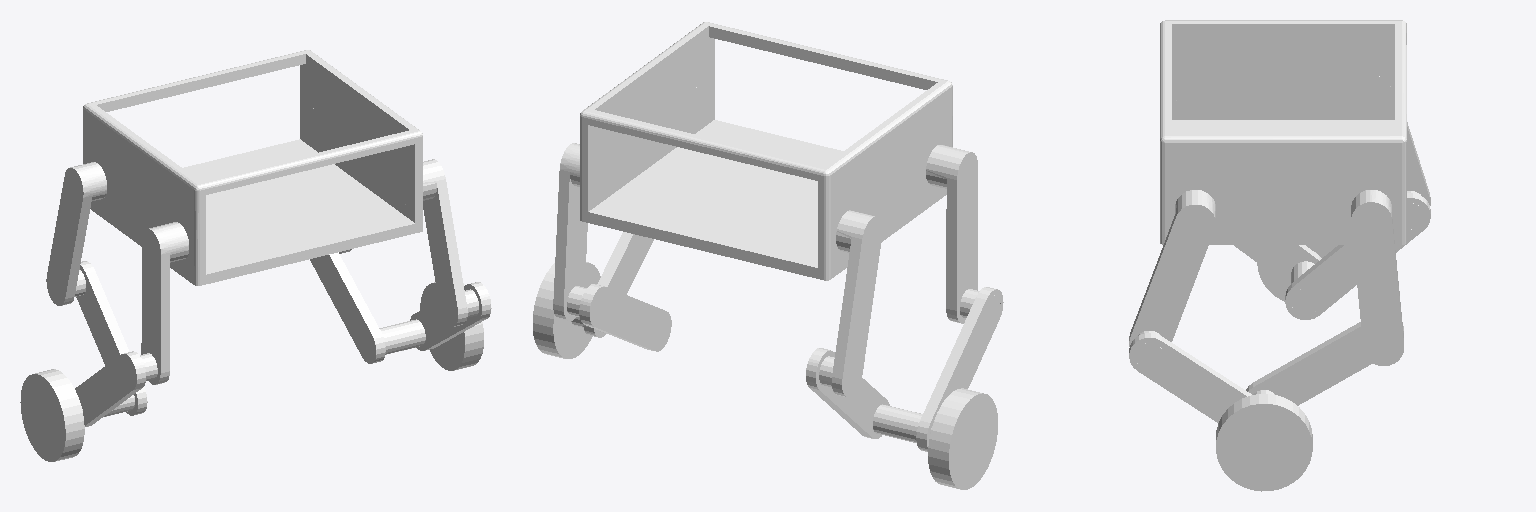
robot.urdf — Legbox:
<?xml version="1.0"?>
<robot name="Legbox">

  <link name="BOX">
    <visual>
      <origin xyz="0 0 0" rpy="0 0 0" />
      <geometry>
        <mesh filename="meshes/BOX.STL" />
      </geometry>
      <material>
        <color rgba="1.00000000 1.00000000 1.00000000 1.00000000"/>
      </material>
    </visual>
    <collision>
      <origin xyz="0 0 0" rpy="0 0 0" />
      <geometry>
        <mesh filename="meshes/BOX.STL" />
      </geometry>
    </collision>
    <inertial>
      <origin xyz="0.0000004 -0.0000004 0.029163" rpy="0 0 0" />
      <mass value="0.88729" />
      <inertia ixx="0.004439" ixy="0" ixz="0" iyy="0.0081058" iyz="0" izz="0.010584" />
    </inertial>
  </link>

  <link name="LL1">
    <visual>
      <origin xyz="0 0 0" rpy="0 0 0" />
      <geometry>
        <mesh filename="meshes/LL1.STL" />
      </geometry>
      <material>
        <color rgba="1.00000000 1.00000000 1.00000000 1.00000000"/>
      </material>
    </visual>
    <collision>
      <origin xyz="0 0 0" rpy="0 0 0" />
      <geometry>
        <mesh filename="meshes/LL1.STL" />
      </geometry>
    </collision>
    <inertial>
      <origin xyz="0.049268 0.0089082 0" rpy="0 0 0" />
      <mass value="0.092756" />
      <inertia ixx="0.0000248" ixy="0.0000436" ixz="0" iyy="0.0002422" iyz="0" izz="0.0002516" />
    </inertial>
  </link>

  <link name="LL3">
    <visual>
      <origin xyz="0 0 0" rpy="0 0 0" />
      <geometry>
        <mesh filename="meshes/LL3.STL" />
      </geometry>
      <material>
        <color rgba="1.00000000 1.00000000 1.00000000 1.00000000"/>
      </material>
    </visual>
    <collision>
      <origin xyz="0 0 0" rpy="0 0 0" />
      <geometry>
        <mesh filename="meshes/LL3.STL" />
      </geometry>
    </collision>
    <inertial>
      <origin xyz="0.06 0.005 0" rpy="0 0 0" />
      <mass value="0.041804" />
      <inertia ixx="0.000005" ixy="0" ixz="0" iyy="0.0000633" iyz="0" izz="0.000059" />
    </inertial>
  </link>

  <link name="WL">
    <visual>
      <origin xyz="0 0 0" rpy="0 0 0" />
      <geometry>
        <mesh filename="meshes/WL.STL" />
      </geometry>
      <material>
        <color rgba="1.00000000 1.00000000 1.00000000 1.00000000"/>
      </material>
    </visual>
    <collision>
      <origin xyz="0 0 0" rpy="0 0 0" />
      <geometry>
        <mesh filename="meshes/WL.STL" />
      </geometry>
    </collision>
    <inertial>
      <origin xyz="0 0.076621 0" rpy="0 0 0" />
      <mass value="0.14676" />
      <inertia ixx="0.0001439" ixy="0" ixz="0" iyy="0.000095" iyz="0" izz="0.0001439" />
    </inertial>
  </link>

  <link name="LL2">
    <visual>
      <origin xyz="0 0 0" rpy="0 0 0" />
      <geometry>
        <mesh filename="meshes/LL2.STL" />
      </geometry>
      <material>
        <color rgba="1.00000000 1.00000000 1.00000000 1.00000000"/>
      </material>
    </visual>
    <collision>
      <origin xyz="0 0 0" rpy="0 0 0" />
      <geometry>
        <mesh filename="meshes/LL2.STL" />
      </geometry>
    </collision>
    <inertial>
      <origin xyz="0.051963 0.012228 0" rpy="0 0 0" />
      <mass value="0.087946" />
      <inertia ixx="0.0000162" ixy="0.0000073" ixz="0" iyy="0.0002291" iyz="0" izz="0.0002306" />
    </inertial>
  </link>

  <link name="LL4">
    <visual>
      <origin xyz="0 0 0" rpy="0 0 0" />
      <geometry>
        <mesh filename="meshes/LL4.STL" />
      </geometry>
      <material>
        <color rgba="1.00000000 1.00000000 1.00000000 1.00000000"/>
      </material>
    </visual>
    <collision>
      <origin xyz="0 0 0" rpy="0 0 0" />
      <geometry>
        <mesh filename="meshes/LL4.STL" />
      </geometry>
    </collision>
    <inertial>
      <origin xyz="0.06 0.005 0" rpy="0 0 0" />
      <mass value="0.041804" />
      <inertia ixx="0.000005" ixy="0" ixz="0" iyy="0.0000633" iyz="0" izz="0.000059" />
    </inertial>
  </link>

  <link name="LR1">
    <visual>
      <origin xyz="0 0 0" rpy="0 0 0" />
      <geometry>
        <mesh filename="meshes/LR1.STL" />
      </geometry>
      <material>
        <color rgba="1.00000000 1.00000000 1.00000000 1.00000000"/>
      </material>
    </visual>
    <collision>
      <origin xyz="0 0 0" rpy="0 0 0" />
      <geometry>
        <mesh filename="meshes/LR1.STL" />
      </geometry>
    </collision>
    <inertial>
      <origin xyz="0.049268 0.0089082 0" rpy="0 0 0" />
      <mass value="0.092756" />
      <inertia ixx="0.0000248" ixy="0.0000436" ixz="0" iyy="0.0002422" iyz="0" izz="0.0002516" />
    </inertial>
  </link>

  <link name="LR3">
    <visual>
      <origin xyz="0 0 0" rpy="0 0 0" />
      <geometry>
        <mesh filename="meshes/LR3.STL" />
      </geometry>
      <material>
        <color rgba="1.00000000 1.00000000 1.00000000 1.00000000"/>
      </material>
    </visual>
    <collision>
      <origin xyz="0 0 0" rpy="0 0 0" />
      <geometry>
        <mesh filename="meshes/LR3.STL" />
      </geometry>
    </collision>
    <inertial>
      <origin xyz="0.06 0.005 0" rpy="0 0 0" />
      <mass value="0.041804" />
      <inertia ixx="0.000005" ixy="0" ixz="0" iyy="0.0000633" iyz="0" izz="0.000059" />
    </inertial>
  </link>

  <link name="WR">
    <visual>
      <origin xyz="0 0 0" rpy="0 0 0" />
      <geometry>
        <mesh filename="meshes/WR.STL" />
      </geometry>
      <material>
        <color rgba="1.00000000 1.00000000 1.00000000 1.00000000"/>
      </material>
    </visual>
    <collision>
      <origin xyz="0 0 0" rpy="0 0 0" />
      <geometry>
        <mesh filename="meshes/WR.STL" />
      </geometry>
    </collision>
    <inertial>
      <origin xyz="0 0.076621 0" rpy="0 0 0" />
      <mass value="0.14676" />
      <inertia ixx="0.0001439" ixy="0" ixz="0" iyy="0.000095" iyz="0" izz="0.0001439" />
    </inertial>
  </link>

  <!-- BUG FIX: LR2 原来质量为0、惯量全为0，会导致物理引擎奇异 -->
  <!-- 临时使用 LL2 的参数，左右对称。务必用 CAD 重新计算精确值 -->
  <link name="LR2">
    <visual>
      <origin xyz="0 0 0" rpy="0 0 0" />
      <geometry>
        <mesh filename="meshes/LR2.STL" />
      </geometry>
      <material>
        <color rgba="1.00000000 1.00000000 1.00000000 1.00000000"/>
      </material>
    </visual>
    <collision>
      <origin xyz="0 0 0" rpy="0 0 0" />
      <geometry>
        <mesh filename="meshes/LR2.STL" />
      </geometry>
    </collision>
    <inertial>
      <origin xyz="0.051963 0.012228 0" rpy="0 0 0" />
      <mass value="0.087946" />
      <inertia ixx="0.0000162" ixy="0.0000073" ixz="0" iyy="0.0002291" iyz="0" izz="0.0002306" />
    </inertial>
  </link>

  <link name="LR4">
    <visual>
      <origin xyz="0 0 0" rpy="0 0 0" />
      <geometry>
        <mesh filename="meshes/LR4.STL" />
      </geometry>
      <material>
        <color rgba="1.00000000 1.00000000 1.00000000 1.00000000"/>
      </material>
    </visual>
    <collision>
      <origin xyz="0 0 0" rpy="0 0 0" />
      <geometry>
        <mesh filename="meshes/LR4.STL" />
      </geometry>
    </collision>
    <inertial>
      <origin xyz="0.06 0.005 0" rpy="0 0 0" />
      <mass value="0.041804" />
      <inertia ixx="0.000005" ixy="0" ixz="0" iyy="0.0000633" iyz="0" izz="0.000059" />
    </inertial>
  </link>

  <!-- 关节名全部加 _joint 后缀，避免与 link 名冲突 -->
  <!-- 轴值清理：0.000001 → 1, -0.000001 → -1 -->
  <!-- 限位按关节功能分别设置（弧度），不再是统一 0~40 -->

  <!-- 左腿髋关节 -->
  <joint name="LL1_joint" type="revolute">
    <parent link="BOX" />
    <child link="LL1" />
    <origin xyz="-0.15046 -0.075 0.034413" rpy="3.1416 1.5646 1.5708" />
    <axis xyz="0 1 0" />
    <limit lower="-0.7854" upper="0.7854" effort="91.0035" velocity="19.69" />
    <hardware>
      <brand>Unitree</brand>
      <motorType>B1-10010</motorType>
      <motorDirection>-1</motorDirection>
      <armature>0.0011969</armature>
    </hardware>
  </joint>

  <!-- 左腿膝关节 -->
  <joint name="LL3_joint" type="revolute">
    <parent link="LL1" />
    <child link="LL3" />
    <origin xyz="0.12 -0.015 0" rpy="3.1416 0.88218 0" />
    <axis xyz="0 -1 0" />
    <limit lower="-1.5708" upper="1.5708" effort="91.0035" velocity="19.69" />
    <hardware>
      <brand>Unitree</brand>
      <motorType>B1-10010</motorType>
      <motorDirection>1</motorDirection>
      <armature>0.0011969</armature>
    </hardware>
  </joint>

  <!-- 左轮：continuous，无限位 -->
  <joint name="WL_joint" type="continuous">
    <parent link="LL3" />
    <child link="WL" />
    <origin xyz="0.12 -0.055 0" rpy="3.1416 -0.64248 3.1416" />
    <axis xyz="0 1 0" />
    <hardware>
      <brand>Unitree</brand>
      <motorType>B1-10010</motorType>
      <motorDirection>1</motorDirection>
      <armature>0.0011969</armature>
    </hardware>
  </joint>

  <!-- 左腿并联杆髋端 -->
  <joint name="LL2_joint" type="revolute">
    <parent link="BOX" />
    <child link="LL2" />
    <origin xyz="-0.14546 0.075 0.034413" rpy="3.1416 1.2919 1.5708" />
    <axis xyz="0 1 0" />
    <limit lower="-0.7854" upper="0.7854" effort="91.0035" velocity="19.69" />
    <hardware>
      <brand>Unitree</brand>
      <motorType>B1-10010</motorType>
      <motorDirection>1</motorDirection>
      <armature>0.0011969</armature>
    </hardware>
  </joint>

  <!-- 左腿并联杆膝端 -->
  <joint name="LL4_joint" type="revolute">
    <parent link="LL2" />
    <child link="LL4" />
    <origin xyz="0.12 0.025 0" rpy="0 -1.1165 0" />
    <axis xyz="0 1 0" />
    <limit lower="-0.7854" upper="0.7854" effort="91.0035" velocity="19.69" />
    <hardware>
      <brand>Unitree</brand>
      <motorType>B1-10010</motorType>
      <motorDirection>1</motorDirection>
      <armature>0.0011969</armature>
    </hardware>
  </joint>

  <!-- 右腿髋关节 -->
  <joint name="LR1_joint" type="revolute">
    <parent link="BOX" />
    <child link="LR1" />
    <origin xyz="0.15046 -0.075 0.034413" rpy="3.1416 1.2391 -1.5708" />
    <axis xyz="0 -1 0" />
    <limit lower="-0.7854" upper="0.7854" effort="91.0035" velocity="19.69" />
    <hardware>
      <brand>Unitree</brand>
      <motorType>B1-10010</motorType>
      <motorDirection>1</motorDirection>
      <armature>0.0011969</armature>
    </hardware>
  </joint>

  <!-- 右腿膝关节 -->
  <joint name="LR3_joint" type="revolute">
    <parent link="LR1" />
    <child link="LR3" />
    <origin xyz="0.12 -0.015 0" rpy="3.1416 -1.2835 0" />
    <axis xyz="0 1 0" />
    <limit lower="-1.5708" upper="1.5708" effort="91.0035" velocity="19.69" />
    <hardware>
      <brand>Unitree</brand>
      <motorType>B1-10010</motorType>
      <motorDirection>1</motorDirection>
      <armature>0.0011969</armature>
    </hardware>
  </joint>

  <!-- 右轮：continuous，无限位 -->
  <joint name="WR_joint" type="continuous">
    <parent link="LR3" />
    <child link="WR" />
    <origin xyz="0.12 -0.055 0" rpy="3.1416 0.094068 3.1416" />
    <axis xyz="0 1 0" />
    <hardware>
      <brand>Unitree</brand>
      <motorType>B1-10010</motorType>
      <motorDirection>1</motorDirection>
      <armature>0.0011969</armature>
    </hardware>
  </joint>

  <!-- 右腿并联杆髋端 -->
  <joint name="LR2_joint" type="revolute">
    <parent link="BOX" />
    <child link="LR2" />
    <origin xyz="0.14546 0.075 0.034413" rpy="0 1.4834 1.5708" />
    <axis xyz="0 -1 0" />
    <limit lower="-0.7854" upper="0.7854" effort="91.0035" velocity="19.69" />
    <hardware>
      <brand>Unitree</brand>
      <motorType>B1-10010</motorType>
      <motorDirection>1</motorDirection>
      <armature>0.0011969</armature>
    </hardware>
  </joint>

  <!-- 右腿并联杆膝端 -->
  <joint name="LR4_joint" type="revolute">
    <parent link="LR2" />
    <child link="LR4" />
    <origin xyz="0.12 0.025 0" rpy="0 1.1002 0" />
    <axis xyz="0 -1 0" />
    <limit lower="-0.7854" upper="0.7854" effort="91.0035" velocity="19.69" />
    <hardware>
      <brand>Unitree</brand>
      <motorType>B1-10010</motorType>
      <motorDirection>1</motorDirection>
      <armature>0.0011969</armature>
    </hardware>
  </joint>

</robot>

--- What the picture shows (computed from the rendered views, not written in the file) ---
The picture shows the robot from 3 angles, left to right: view 1: azimuth 30°, elevation 25°; view 2: azimuth 150°, elevation 25°; view 3: azimuth 270°, elevation 25°; orthographic projection.
Model Legbox with 11 links and 10 joints (8 revolute, 2 continuous), rooted at BOX, posed all joints at 0.
Links seen in each view (by area): view 1: BOX, LL1, LR1, WL, LL2, WR, LR4, LL4, LL3, LR3, LR2; view 2: BOX, WL, LL1, LL2, LR2, LL3, LR4, WR, LL4, LR3, LR1; view 3: BOX, WR, LR2, LR1, LR4, LR3, LL4, LL2, LL3, WL, LL1.
Link boxes in pixels (box(x1,y1,x2,y2)): BOX: box(83, 50, 422, 285); LL1: box(121, 222, 188, 384); LR1: box(389, 159, 478, 326); WL: box(20, 369, 134, 461); LL2: box(46, 162, 106, 305); WR: box(360, 282, 483, 370); LR4: box(310, 252, 385, 363); LL4: box(76, 261, 147, 415); LL3: box(75, 351, 145, 426); LR3: box(410, 282, 491, 350); LR2: box(307, 108, 351, 253); BOX: box(580, 22, 952, 280); WL: box(873, 388, 997, 489); LL1: box(926, 145, 999, 323); LL2: box(819, 210, 882, 397); LR2: box(553, 143, 616, 320); LL3: box(916, 287, 1003, 451); LR4: box(579, 284, 671, 351); WR: box(533, 262, 668, 358); LL4: box(806, 348, 889, 438); LR3: box(583, 232, 653, 337); LR1: box(686, 86, 706, 126); BOX: box(1160, 20, 1406, 244); WR: box(1216, 390, 1312, 491); LR2: box(1351, 190, 1403, 365); LR1: box(1129, 190, 1215, 368); LR4: box(1246, 322, 1403, 405); LR3: box(1129, 333, 1251, 422); LL4: box(1285, 193, 1430, 319); LL2: box(1351, 75, 1430, 229); LL3: box(1234, 245, 1321, 285); WL: box(1257, 245, 1337, 314); LL1: box(1175, 75, 1215, 111).
Bounding box of the posed robot: 0.4209 × 0.2571 × 0.3025 m (x, y, z).
Meshes: 11 distinct files referenced, 11 mesh visuals loaded (11 binary STL).
